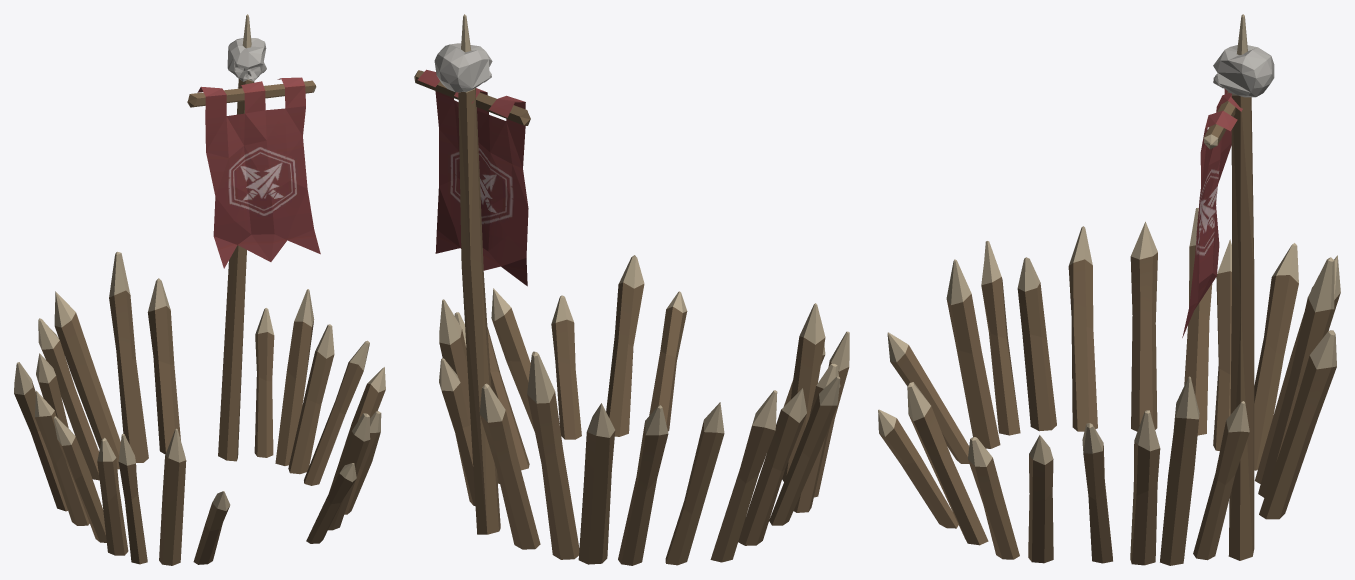
The model's file is MMEnemyCamp_tribal.fbx.
3 renders of one model, left to right at view 1: azimuth 30°, elevation 25°; view 2: azimuth 150°, elevation 25°; view 3: azimuth 270°, elevation 25°, orthographic. The views are drawn at different scales.
Visible parts, largest first — view 1: MMEnemyCamp_tribal; view 2: MMEnemyCamp_tribal; view 3: MMEnemyCamp_tribal.
Boxes of the visible parts, <box> form: MMEnemyCamp_tribal: <box>14,14,385,565</box>; MMEnemyCamp_tribal: <box>414,14,849,565</box>; MMEnemyCamp_tribal: <box>878,14,1340,565</box>.
Bounding box in the file's own units: 3.33 × 4.39 × 3.33.
Materials: 2 (2 with a texture image).
